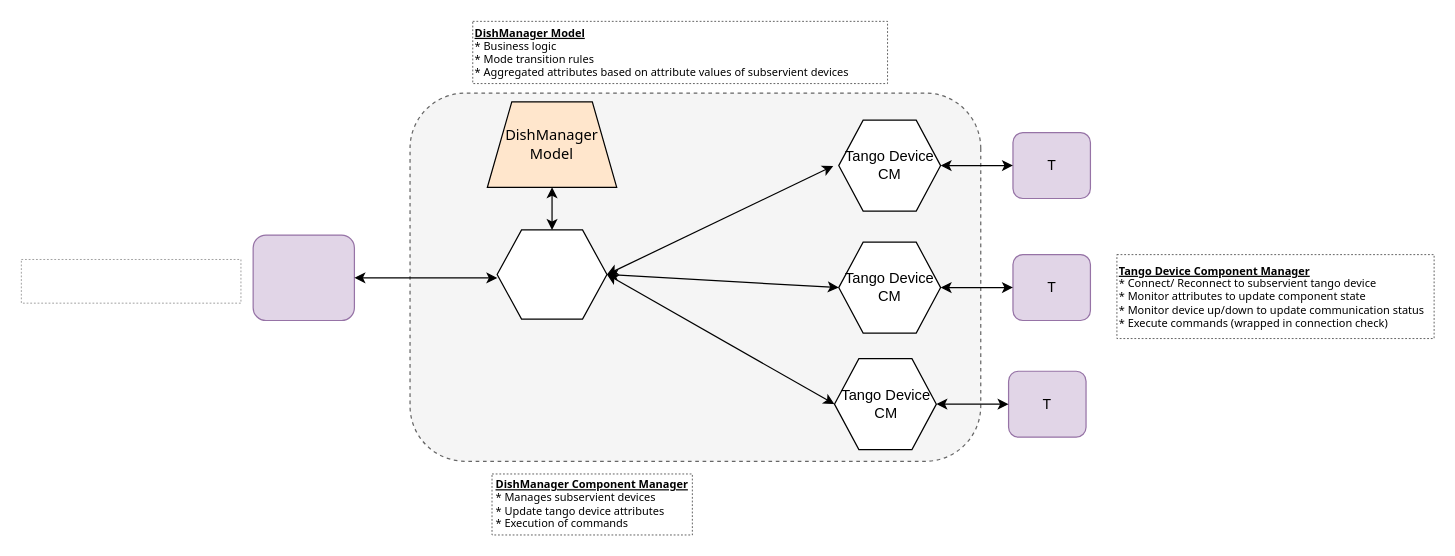
Some shapes in this 1455 by 556 pixel diagram are drawn without their labels. The centre of each missing label's shape, as x and y in pixels:
DishManager * Entry point for commands * Reflect Dish LMC state via attributes: pixel 130 281
DishManager CM: pixel 551 274
DishManager T: pixel 303 277
